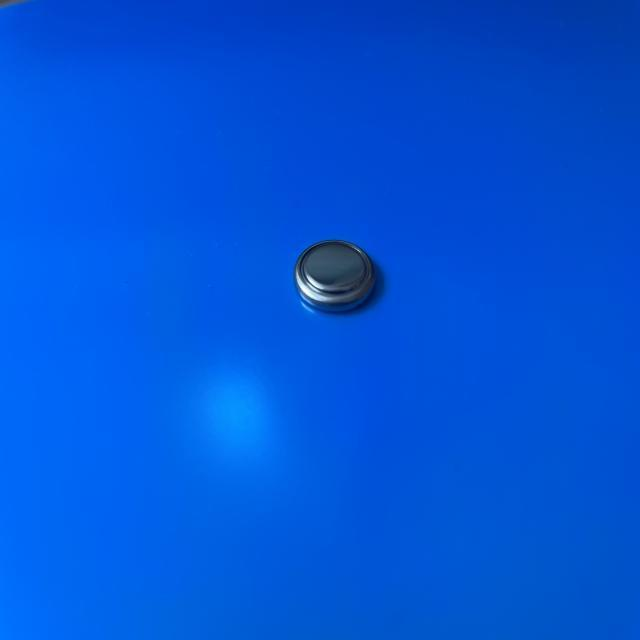COIN: (294, 233, 376, 314)
